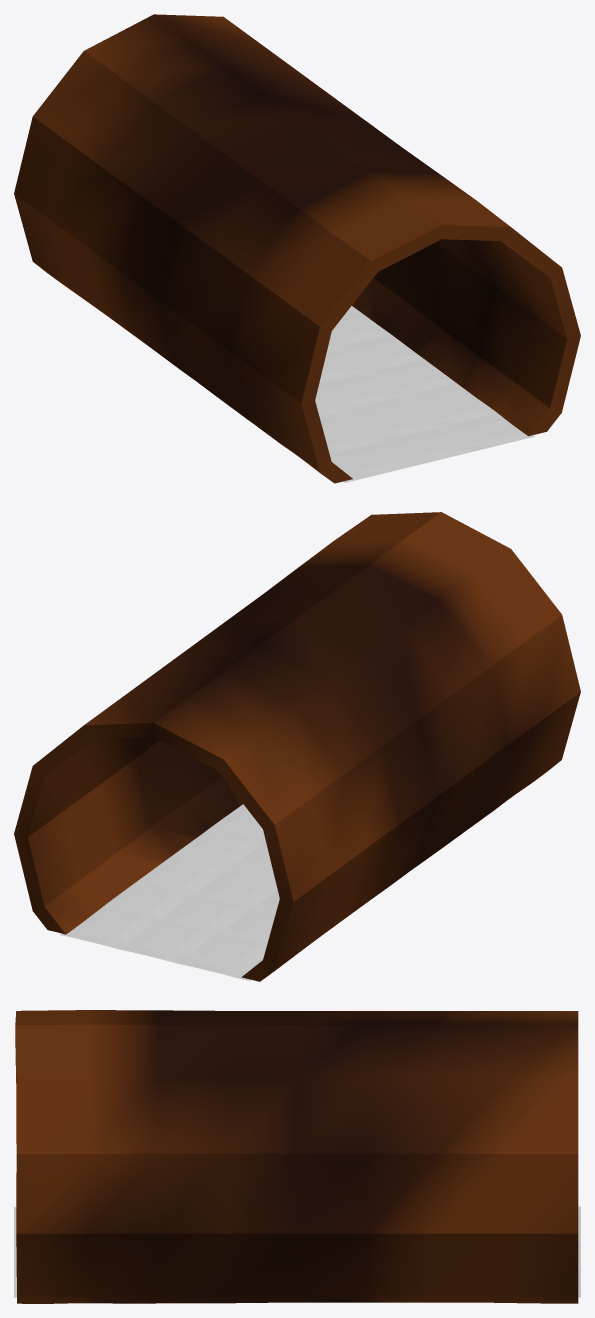
The model's file is Tunnel vierge(3).fbx.
3 views of the same model, one above another, from view 1: azimuth 30°, elevation 25°; view 2: azimuth 150°, elevation 25°; view 3: azimuth 270°, elevation 25° (orthographic). The views are drawn at different scales.
Visible parts, largest first — view 1: Cylindre 3, Cylindre 2; view 2: Cylindre 3, Cylindre 2; view 3: Cylindre 3, Cylindre 2.
Boxes of the visible parts, x1,y1,x2,y2 form: Cylindre 3: (14, 14, 580, 483); Cylindre 2: (315, 306, 534, 482); Cylindre 3: (14, 512, 580, 981); Cylindre 2: (60, 804, 279, 980); Cylindre 3: (15, 1010, 578, 1303); Cylindre 2: (14, 1206, 580, 1297).
Bounding box in the file's own units: 4.55 × 3.65 × 8.18.
